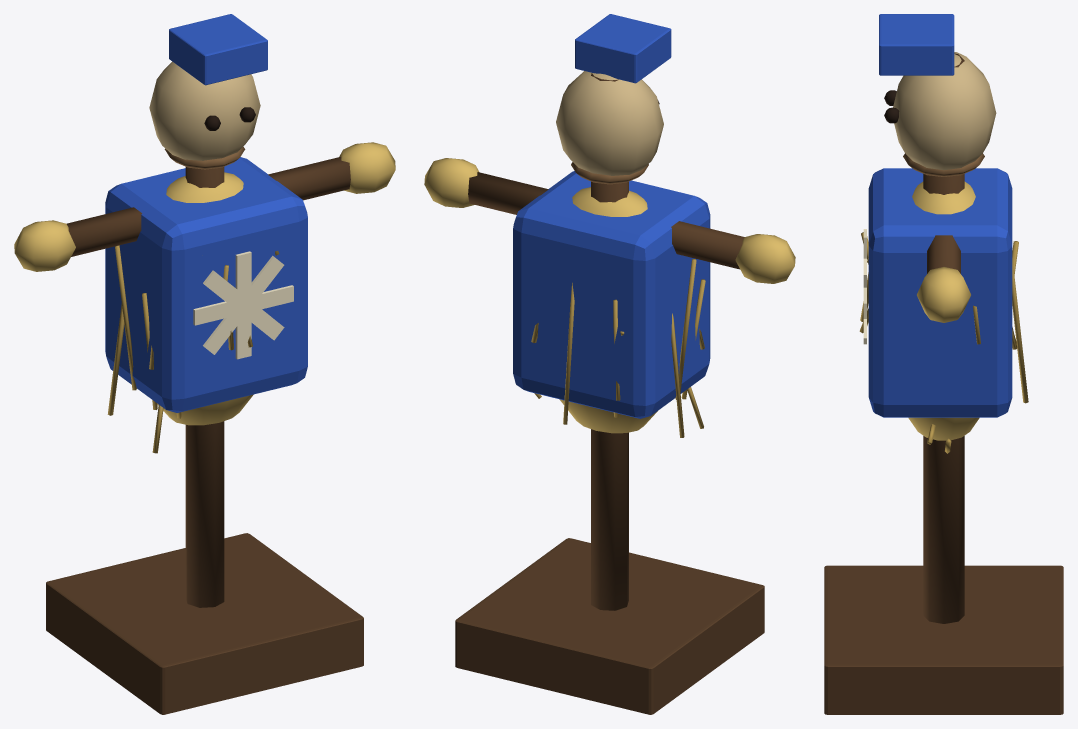
The model's file is uebungspuppe_blau.glb.
3 views of the same model, side by side, from view 1: azimuth 30°, elevation 25°; view 2: azimuth 150°, elevation 25°; view 3: azimuth 270°, elevation 25° (orthographic). The views are drawn at different scales.
Parts seen in each view (by area): view 1: Cube; view 2: Cube; view 3: Cube.
Part boxes in pixels (x1,y1,x2,y2): Cube: (14, 14, 395, 714); Cube: (424, 14, 795, 714); Cube: (824, 14, 1063, 714).
Size of the model in its own units: 1.31 by 2.05 by 0.7.
